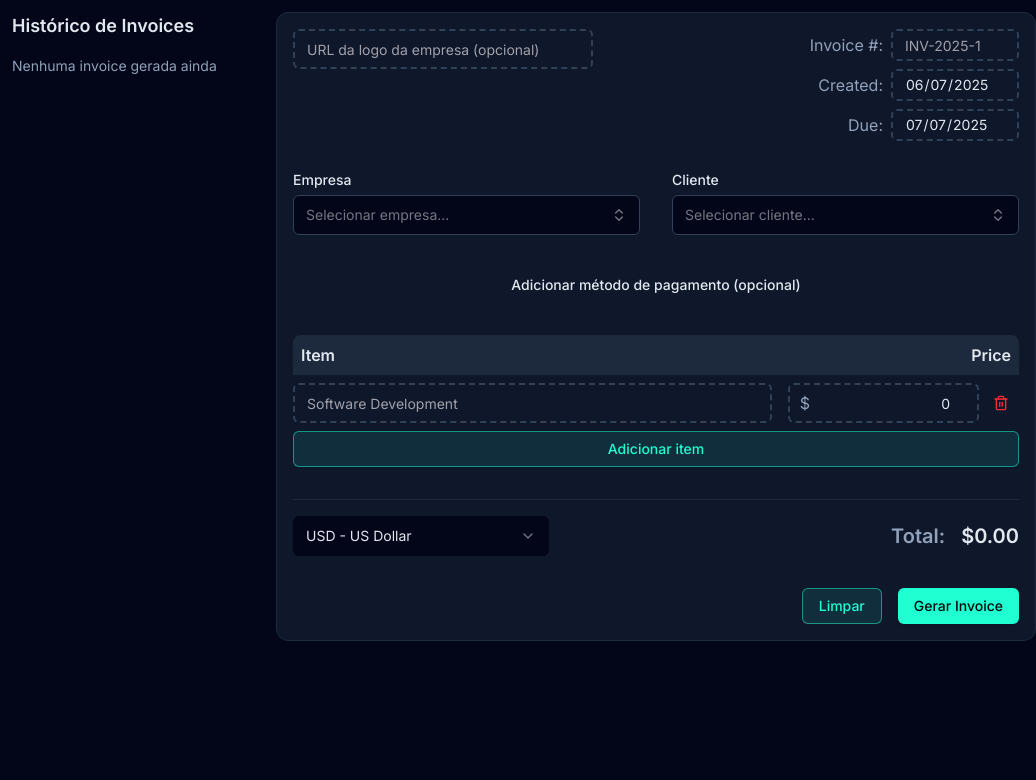
Test: InvoiceGenerator › should clear form data correctly
The image size is (1036, 780).
// Fill some data
In the field with placeholder "INV-2025-1": point(955, 45) [891,29,1019,61], type "INV001"
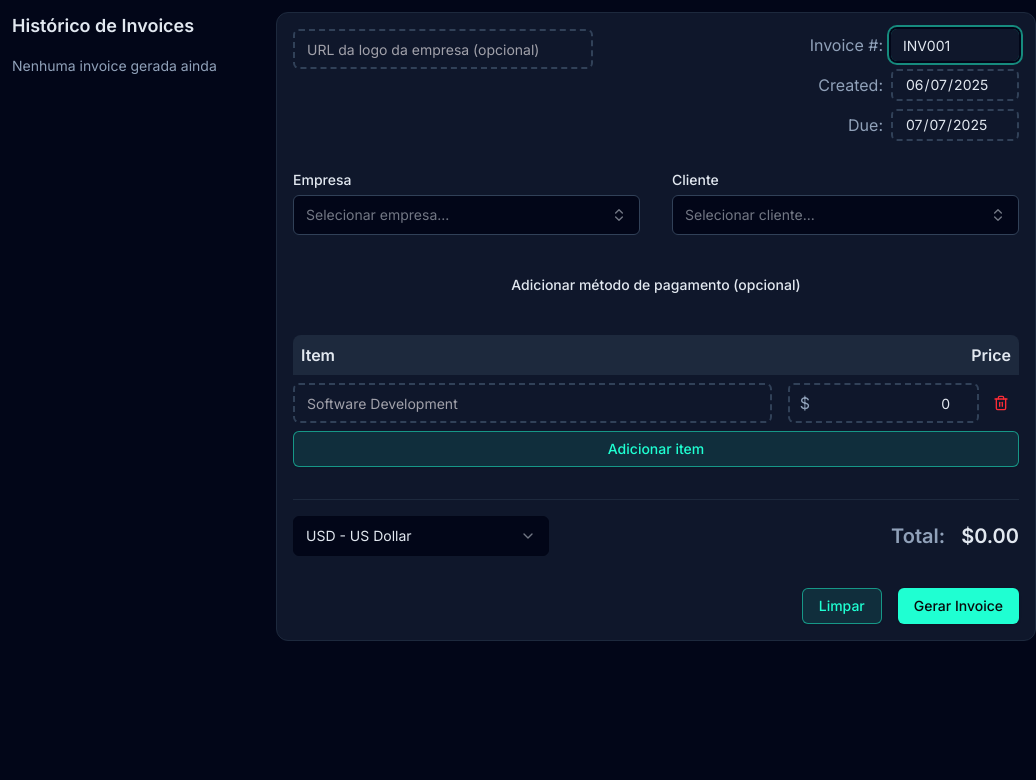
Click the button "Adicionar item": point(656, 449) [293,431,1019,467]
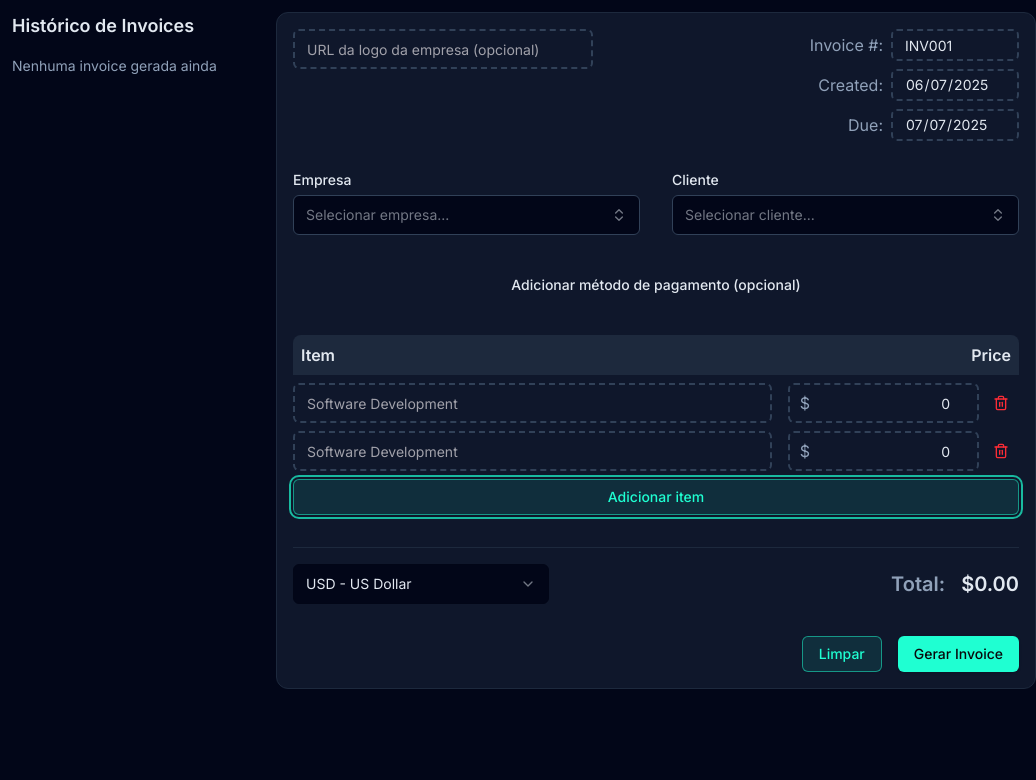
In the 1st field with placeholder "Software Development": point(532, 403) [293,383,772,423], type "Test Service"
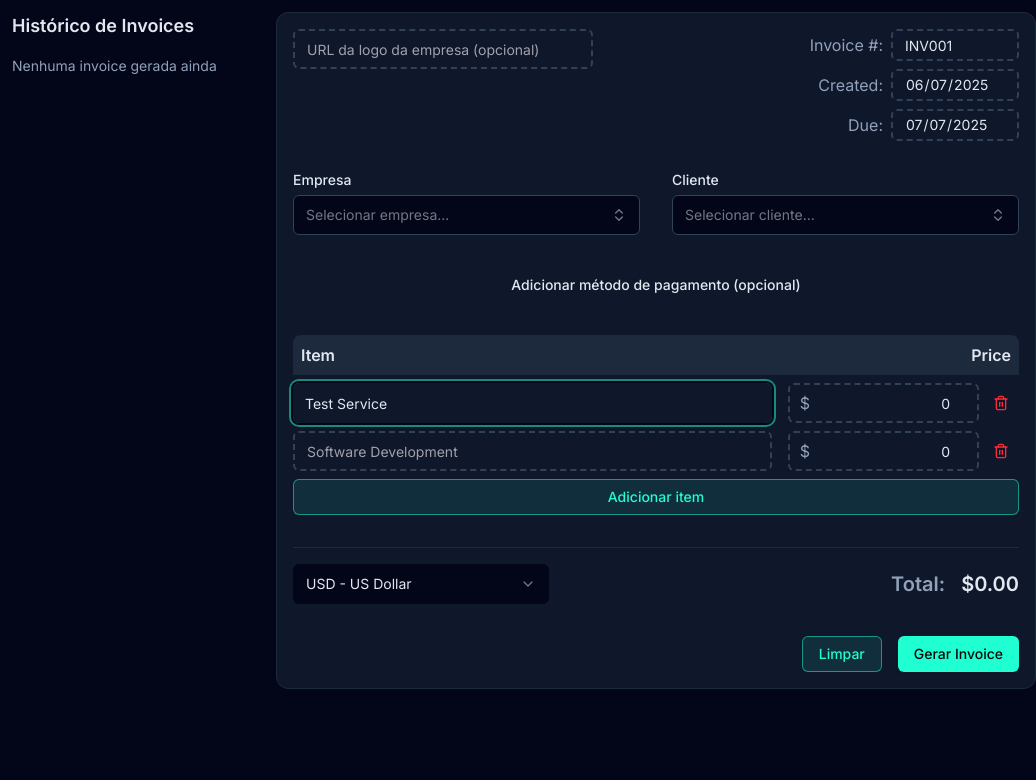
In the 1st number field with placeholder "0.00": point(883, 403) [788,383,979,423], type "100"
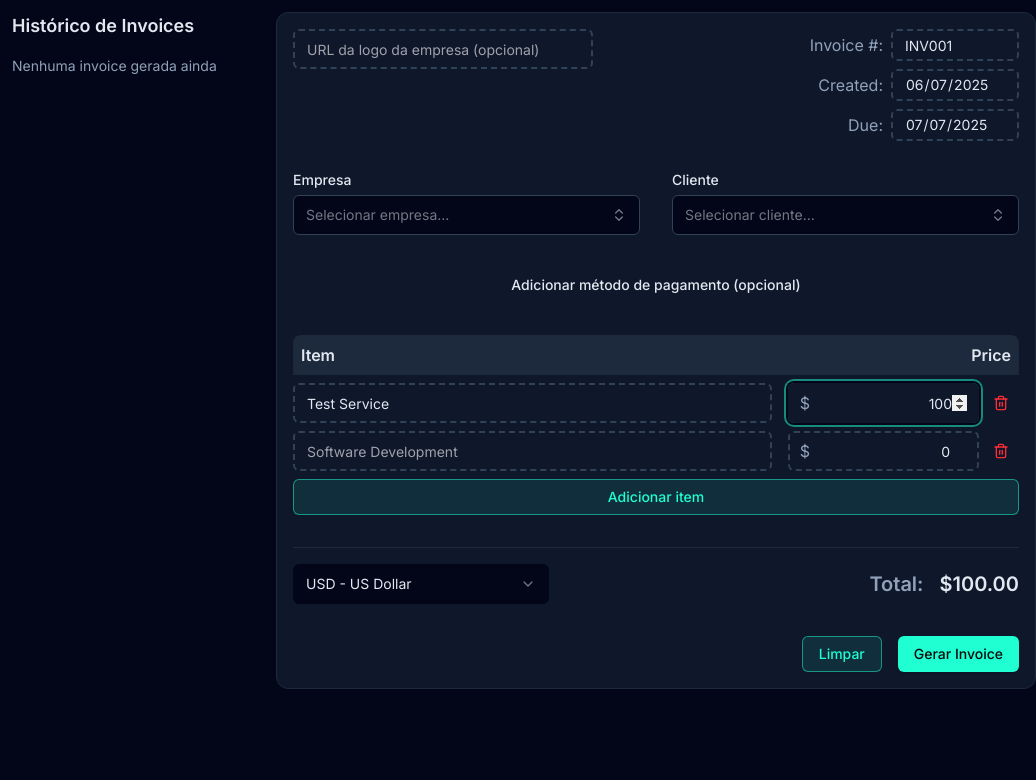
// Clear form
Click the button "Limpar": point(842, 654) [802,636,882,672]
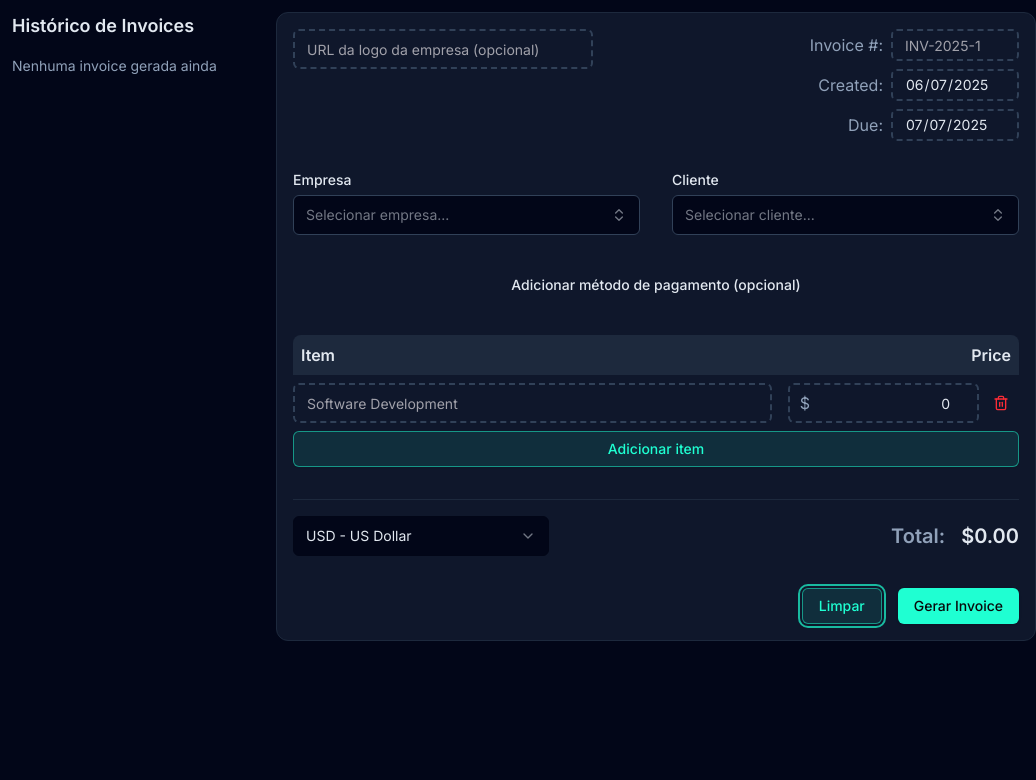
Expected: the field showing "Test Service" is not shown
Expected: the text with test id "total" reads "$0.00", [961,524,1019,548]
